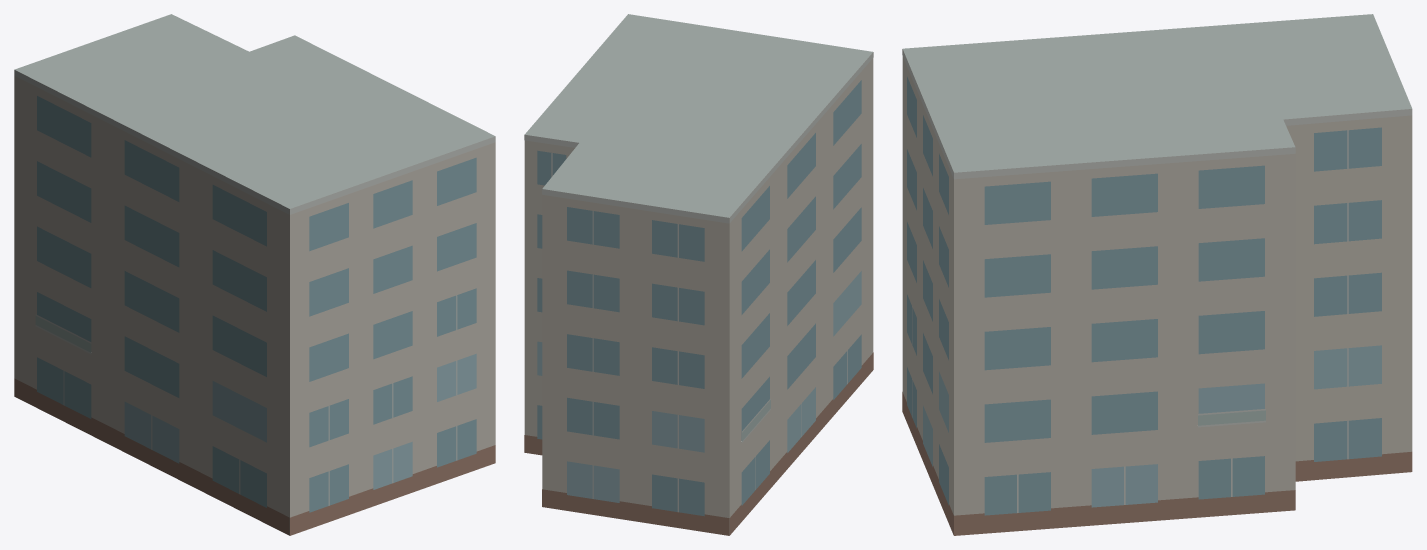
Rendered from survey-upis-32489987.glb.
3 views of the same model, side by side, from view 1: azimuth 30°, elevation 25°; view 2: azimuth 150°, elevation 25°; view 3: azimuth 270°, elevation 25° (orthographic). The views are drawn at different scales.
Visible parts, largest first — view 1: survey-upis-32489987.tmp; view 2: survey-upis-32489987.tmp; view 3: survey-upis-32489987.tmp.
Part boxes in pixels (x1,y1,x2,y2): survey-upis-32489987.tmp: [14, 14, 495, 535]; survey-upis-32489987.tmp: [524, 14, 873, 535]; survey-upis-32489987.tmp: [902, 14, 1412, 535].
Size of the model in its own units: 12.67 by 13.5 by 17.19.
